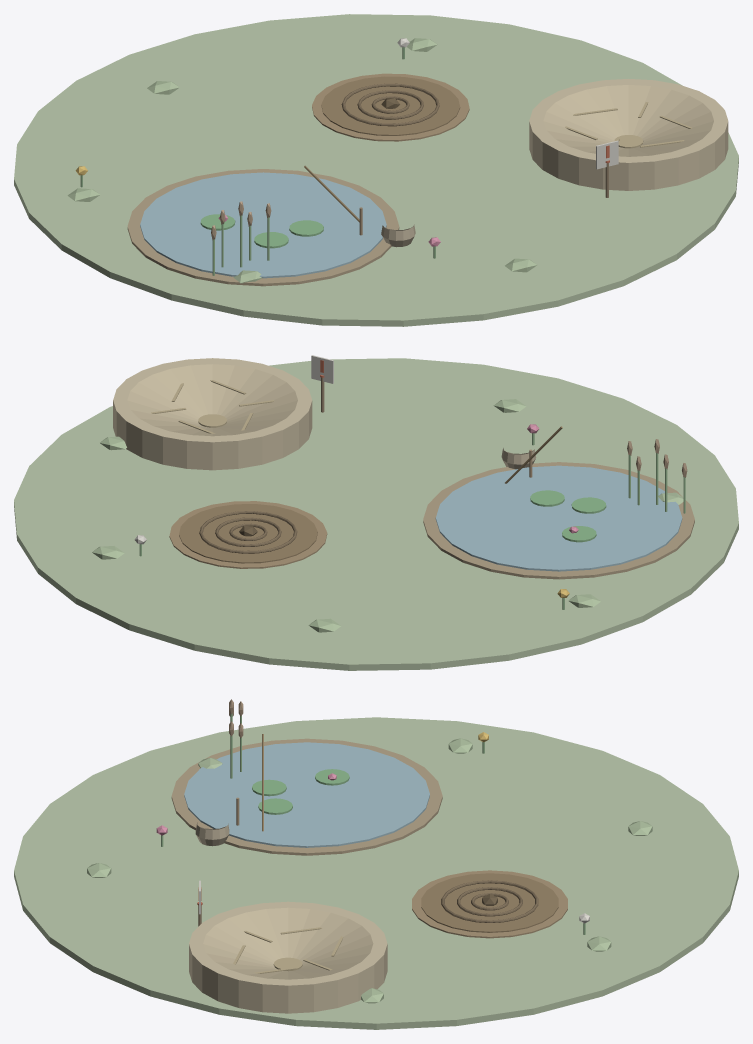
Rendered from pond.glb.
3 views of the same model, one above another, from view 1: azimuth 30°, elevation 25°; view 2: azimuth 150°, elevation 25°; view 3: azimuth 270°, elevation 25° (orthographic).
Parts seen in each view (by area): view 1: part_13, part_07, part_18, part_17, part_04, part_11, part_09, part_01, part_10, part_02, part_15, part_05 (+2 smaller); view 2: part_13, part_07, part_18, part_17, part_04, part_11, part_09, part_10, part_01, part_02, part_15, part_05 (+1 smaller); view 3: part_13, part_07, part_18, part_17, part_04, part_11, part_09, part_10, part_01, part_02, part_15, part_14.
Part boxes in pixels (x1=…): part_13: x1=14, y1=14, x2=738, y2=326; part_07: x1=140, y1=172, x2=386, y2=278; part_18: x1=529, y1=79, x2=728, y2=190; part_17: x1=543, y1=85, x2=713, y2=156; part_04: x1=321, y1=76, x2=460, y2=135; part_11: x1=127, y1=169, x2=399, y2=286; part_09: x1=312, y1=73, x2=469, y2=141; part_01: x1=341, y1=83, x2=439, y2=126; part_10: x1=67, y1=38, x2=537, y2=283; part_02: x1=200, y1=214, x2=323, y2=248; part_15: x1=565, y1=102, x2=691, y2=148; part_05: x1=80, y1=47, x2=435, y2=275; part_13: x1=14, y1=358, x2=738, y2=670; part_07: x1=435, y1=465, x2=682, y2=571; part_18: x1=113, y1=358, x2=312, y2=470; part_17: x1=127, y1=364, x2=297, y2=436; part_04: x1=179, y1=504, x2=317, y2=563; part_11: x1=423, y1=462, x2=694, y2=579; part_09: x1=169, y1=501, x2=327, y2=568; part_10: x1=92, y1=399, x2=686, y2=632; part_01: x1=199, y1=511, x2=297, y2=553; part_02: x1=530, y1=490, x2=606, y2=542; part_15: x1=151, y1=380, x2=274, y2=433; part_05: x1=139, y1=433, x2=685, y2=609; part_13: x1=14, y1=717, x2=738, y2=1029; part_07: x1=184, y1=742, x2=429, y2=847; part_18: x1=189, y1=901, x2=387, y2=1013; part_17: x1=203, y1=907, x2=373, y2=979; part_04: x1=421, y1=873, x2=558, y2=932; part_11: x1=171, y1=738, x2=442, y2=855; part_09: x1=412, y1=870, x2=567, y2=938; part_10: x1=87, y1=738, x2=652, y2=1003; part_01: x1=441, y1=880, x2=538, y2=922; part_02: x1=252, y1=769, x2=349, y2=814; part_15: x1=233, y1=927, x2=343, y2=973; part_14: x1=195, y1=822, x2=229, y2=846.
Size of the model in its own units: 23 by 2.82 by 23.
